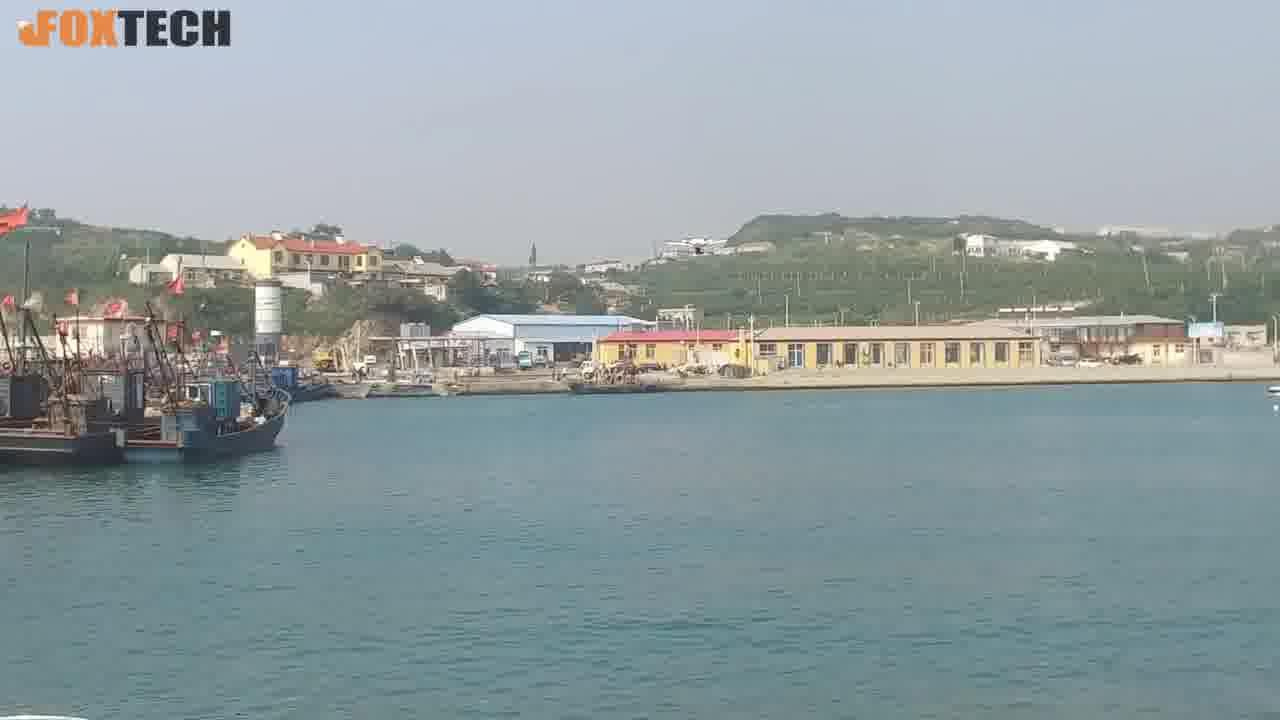drone: (665, 231, 725, 255)
